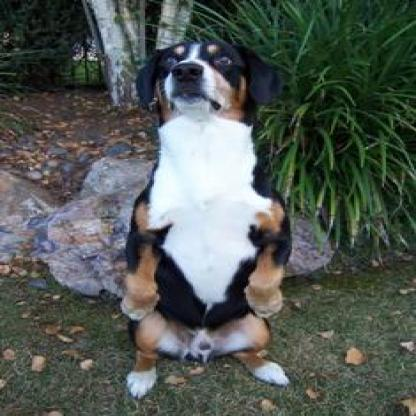EntleBucher: (120, 38, 287, 395)
